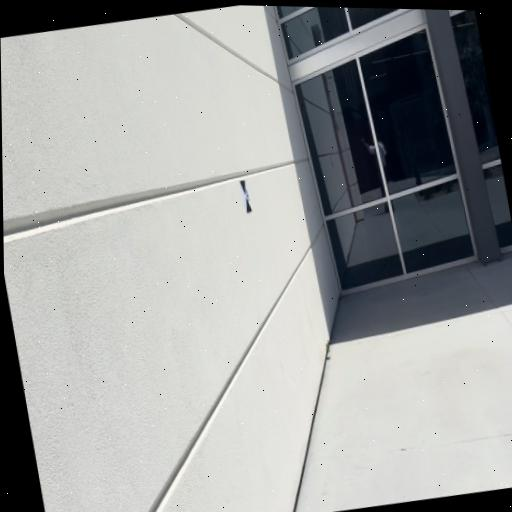target4: (240, 178, 252, 214)
